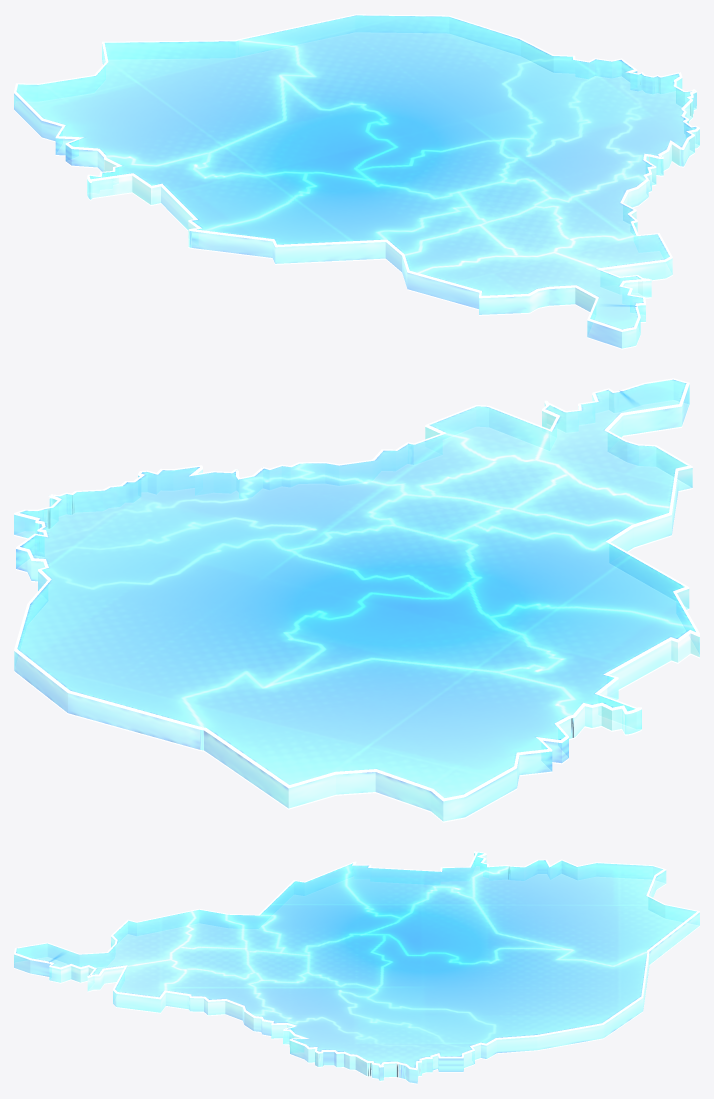
The model's file is cdmx.glb.
The picture shows the model from 3 angles, top to bottom: view 1: azimuth 30°, elevation 25°; view 2: azimuth 150°, elevation 25°; view 3: azimuth 270°, elevation 25°; orthographic projection. The views are drawn at different scales.
Visible parts, largest first — view 1: CrystalCDMX; view 2: CrystalCDMX; view 3: CrystalCDMX.
Boxes of the visible parts, <box> form: CrystalCDMX: <box>14,14,699,349</box>; CrystalCDMX: <box>14,378,699,822</box>; CrystalCDMX: <box>14,851,699,1084</box>.
Size of what is drawn, in the model's own units: 6.79 by 0.2213 by 9.04.
Materials: 2 (1 with a texture image).
